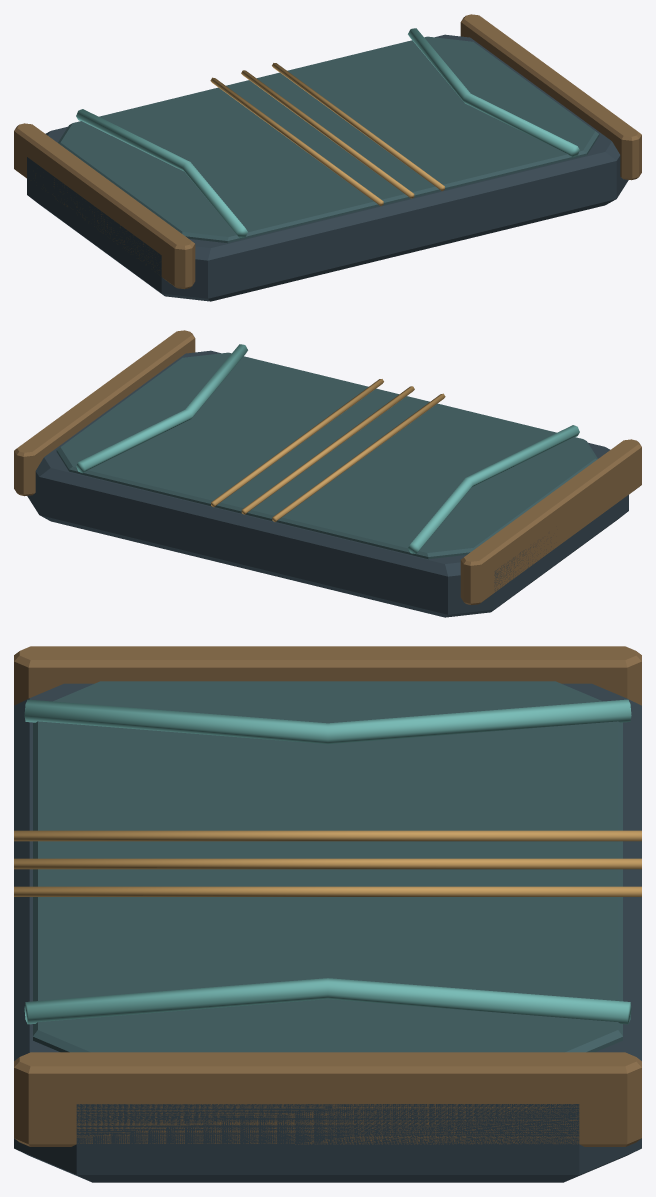
The model's file is bridge-segment.glb.
3 views of the same model, one above another, from view 1: azimuth 30°, elevation 25°; view 2: azimuth 150°, elevation 25°; view 3: azimuth 270°, elevation 25° (orthographic). The views are drawn at different scales.
Parts seen in each view (by area): view 1: BridgeSegment | Slate | inset, BridgeSegment | Basalt | blue, BridgeSegment | Brass | muted, BridgeSegment | Enamel | tide, BridgeSegment | Brass | bright; view 2: BridgeSegment | Slate | inset, BridgeSegment | Basalt | blue, BridgeSegment | Brass | muted, BridgeSegment | Enamel | tide, BridgeSegment | Brass | bright; view 3: BridgeSegment | Slate | inset, BridgeSegment | Brass | muted, BridgeSegment | Basalt | blue, BridgeSegment | Enamel | tide, BridgeSegment | Brass | bright.
Part boxes in pixels (bbox=[...]): BridgeSegment | Slate | inset: bbox=[58, 36, 599, 243]; BridgeSegment | Basalt | blue: bbox=[27, 34, 628, 301]; BridgeSegment | Brass | muted: bbox=[14, 14, 641, 289]; BridgeSegment | Enamel | tide: bbox=[76, 28, 579, 237]; BridgeSegment | Brass | bright: bbox=[210, 63, 444, 205]; BridgeSegment | Slate | inset: bbox=[56, 352, 597, 559]; BridgeSegment | Basalt | blue: bbox=[27, 350, 628, 617]; BridgeSegment | Brass | muted: bbox=[14, 330, 641, 605]; BridgeSegment | Enamel | tide: bbox=[76, 344, 579, 553]; BridgeSegment | Brass | bright: bbox=[211, 379, 445, 521]; BridgeSegment | Slate | inset: bbox=[33, 681, 622, 1052]; BridgeSegment | Brass | muted: bbox=[14, 646, 641, 1146]; BridgeSegment | Basalt | blue: bbox=[14, 683, 641, 1182]; BridgeSegment | Enamel | tide: bbox=[24, 699, 631, 1024]; BridgeSegment | Brass | bright: bbox=[14, 830, 641, 896].
Size of the model in its own units: 1.6 by 0.2176 by 1.
